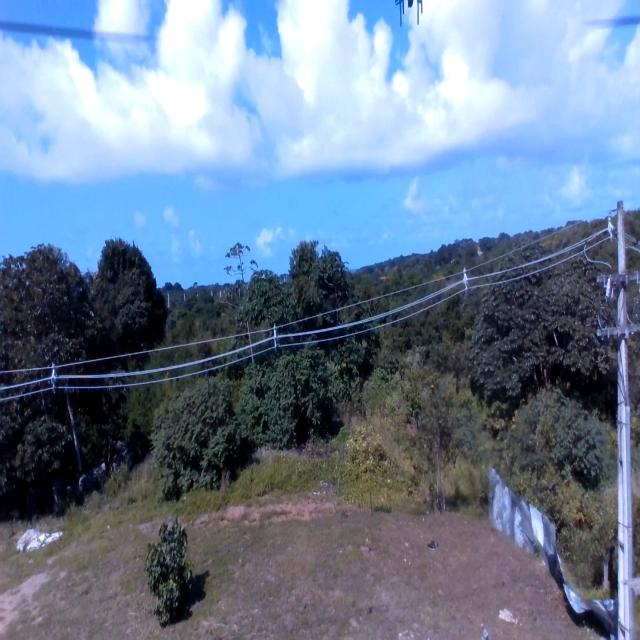-uav-: (396, 0, 426, 28)
